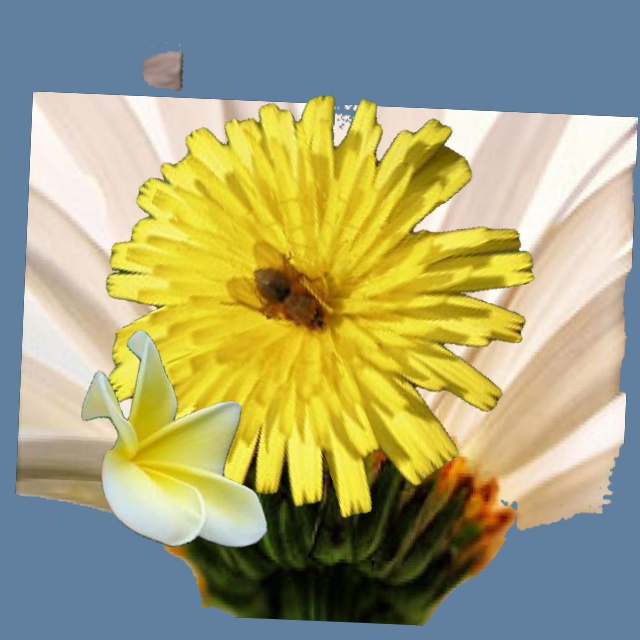daisy: (16, 91, 637, 624)
dandelion: (106, 95, 533, 517)
frangipani: (81, 330, 267, 547)
rose: (143, 42, 182, 90)
ylang-ylang: (126, 433, 151, 460)
